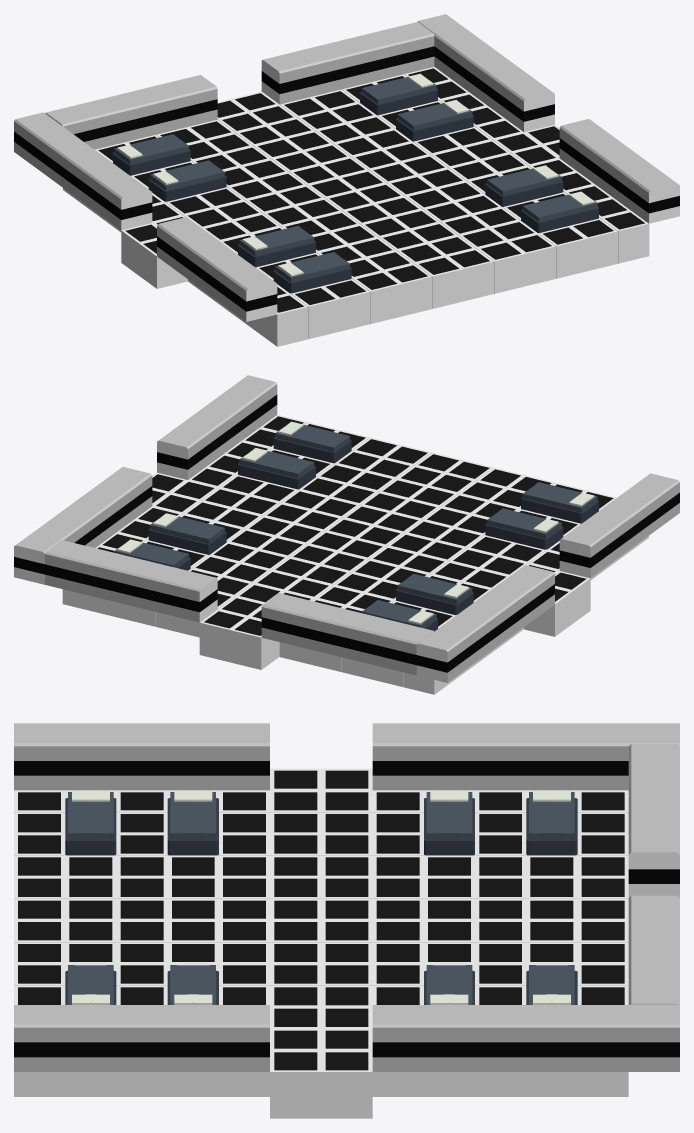
File: bedroomMedium0.fbx
3 views of the same model, one above another, from view 1: azimuth 30°, elevation 25°; view 2: azimuth 150°, elevation 25°; view 3: azimuth 270°, elevation 25° (orthographic). The views are drawn at different scales.
Visible parts, largest first — view 1: Cube, Cube.004, Cube.007, Cube.009, Cube.006, Cube.010, Cube.001, Cube.005, Cube.168, Cube.181, Cube.183, Cube.192 (+116 smaller); view 2: Cube.001, Cube.009, Cube.006, Cube.007, Cube, Cube.004, Cube.179, Cube.187, Cube.168, Cube.202, Cube.194, Cube.173 (+112 smaller); view 3: Cube.012, Cube.011, Cube.175, Cube.184, Cube.174, Cube.177, Cube.181, Cube.182, Cube.183, Cube.185, Cube.188, Cube.190 (+146 smaller).
Boxes of the visible parts, x1,y1,x2,y2 form: Cube: (273,252,351,293); Cube.004: (148,160,226,201); Cube.007: (485,165,563,206); Cube.009: (396,100,473,141); Cube.006: (521,191,598,232); Cube.010: (360,73,437,115); Cube.001: (238,226,315,267); Cube.005: (113,134,190,175); Cube.168: (261,52,310,104); Cube.181: (103,178,152,230); Cube.183: (228,269,277,321); Cube.192: (631,171,679,223); Cube.001: (485,508,563,549); Cube.009: (148,513,226,554); Cube.006: (273,421,351,463); Cube.007: (238,448,315,489); Cube: (521,482,598,523); Cube.004: (396,573,473,615); Cube.179: (559,525,608,578); Cube.187: (416,630,465,682); Cube.168: (169,570,217,622); Cube.202: (157,427,205,479); Cube.194: (230,617,279,669); Cube.173: (385,623,433,675); Cube.012: (321,1050,372,1118); Cube.011: (270,1050,321,1118); Cube.175: (526,723,577,790); Cube.184: (116,723,167,790); Cube.174: (577,723,628,790); Cube.177: (475,723,526,790); Cube.181: (372,723,423,790); Cube.182: (65,723,116,790); Cube.183: (14,723,65,790); Cube.185: (167,723,218,790); Cube.188: (628,1005,679,1071); Cube.190: (167,1005,218,1071).
Bounding box in the file's own units: 2802 × 400 × 2600.
